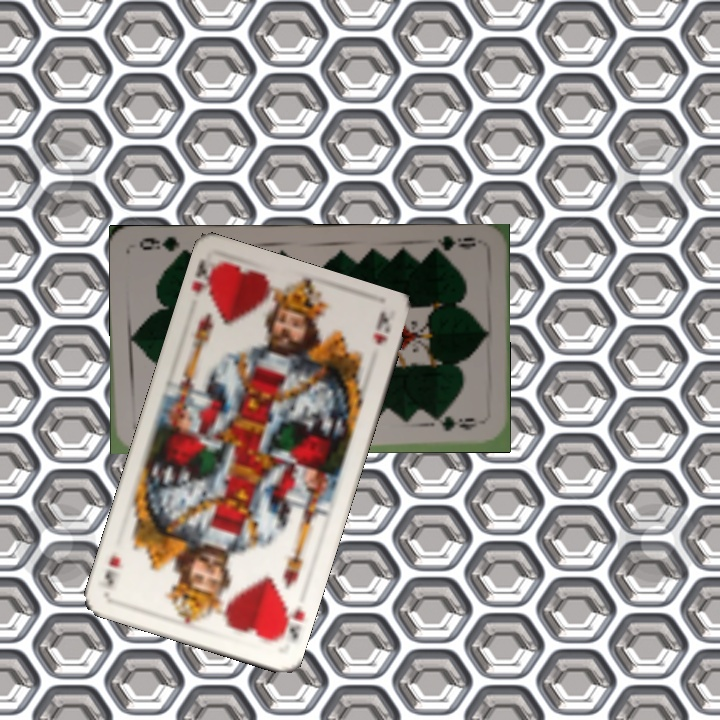G9: (424, 232, 479, 258)
HK: (187, 255, 223, 304), (271, 601, 307, 644)
